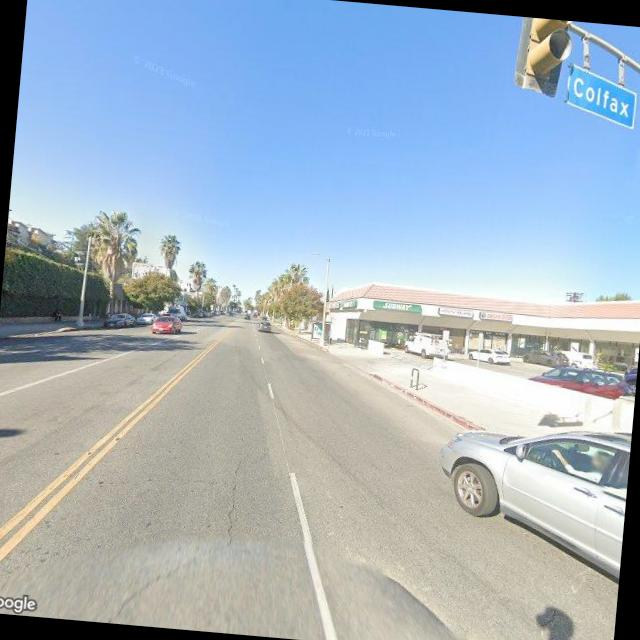crack: (214, 444, 254, 561)
